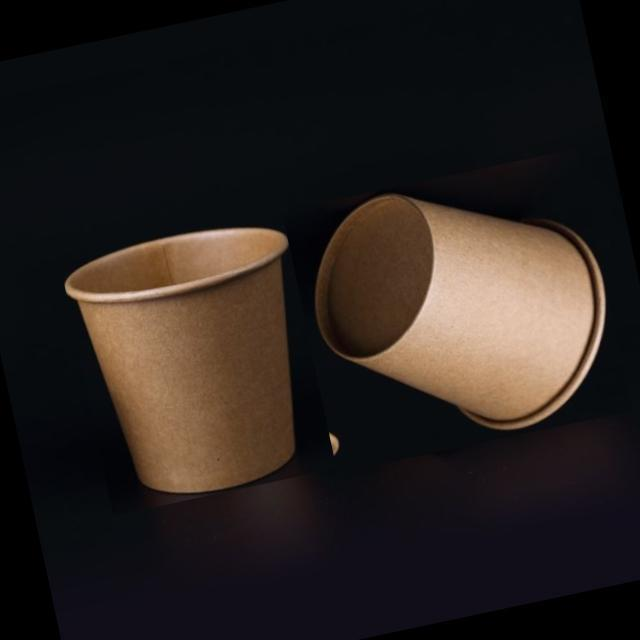Cup: (312, 187, 606, 435), (61, 220, 300, 497)
